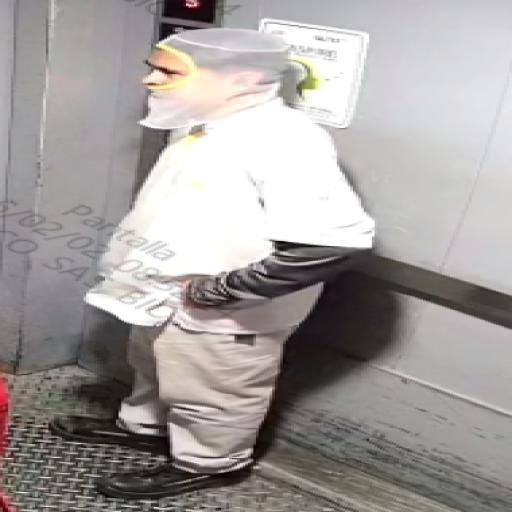persona: (67, 14, 407, 512)
